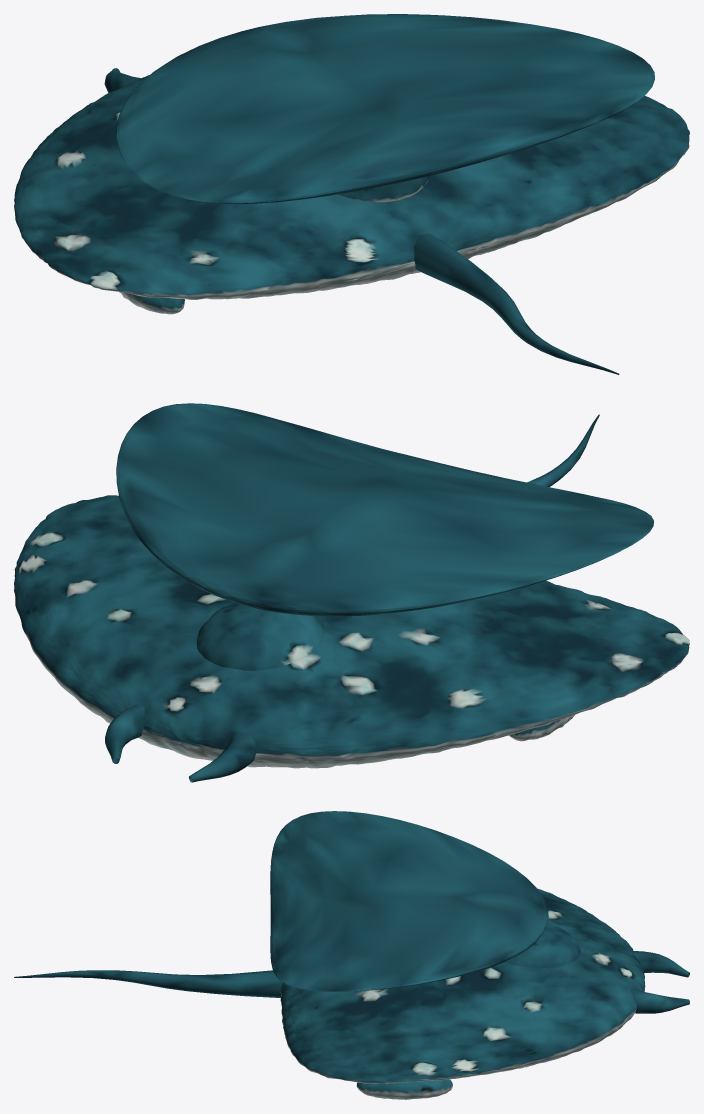
File: drovani_titan.glb
The picture shows the model from 3 angles, top to bottom: view 1: azimuth 30°, elevation 25°; view 2: azimuth 150°, elevation 25°; view 3: azimuth 270°, elevation 25°; orthographic projection. The views are drawn at different scales.
Parts seen in each view (by area): view 1: drovani_titan.001; view 2: drovani_titan.001; view 3: drovani_titan.001.
Boxes of the visible parts, box(x1,y1,x2,y2) form: drovani_titan.001: box(14, 14, 689, 374); drovani_titan.001: box(14, 403, 689, 782); drovani_titan.001: box(14, 811, 689, 1099).
Size of the model in its own units: 7.92 by 2.11 by 10.
